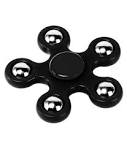fidget_spinner: (0, 3, 123, 135)
